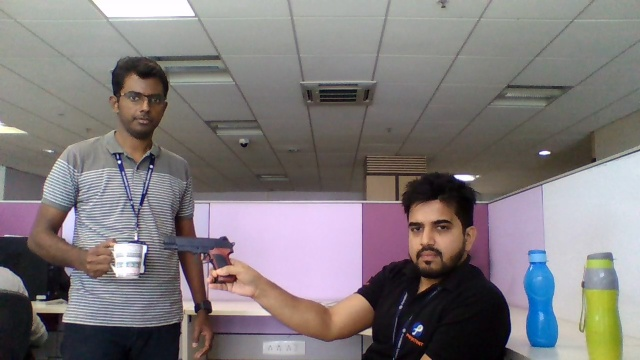gun: (159, 235, 233, 263)
